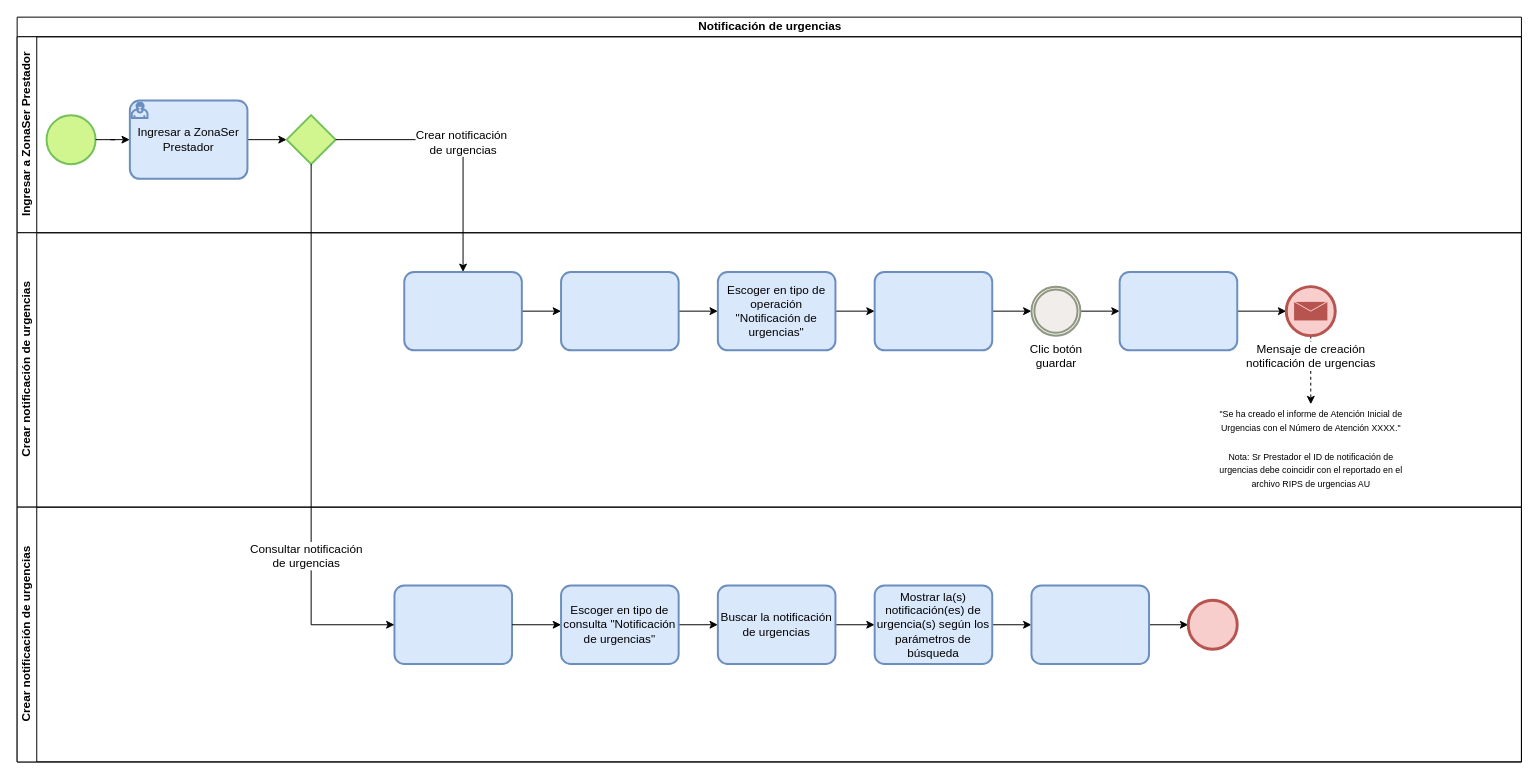
This 1539x779 diagram has some shape labels left out. The shapes that lost their labels are listed below. From the top down, each one's centre as x and y in pixels, then its label:
point 462,310: Ingresar al módulo "Atención al Usuario"
point 619,310: Ingresar documento de identidad del afiliado
point 933,310: Diligenciar formulario de la notificación de urgencias
point 1178,310: Guardar notificación de urgencias
point 453,624: Ingresar al módulo "Consulta General"
point 1090,624: Ingresar al detalle o anexo de la notificación de urgencias
